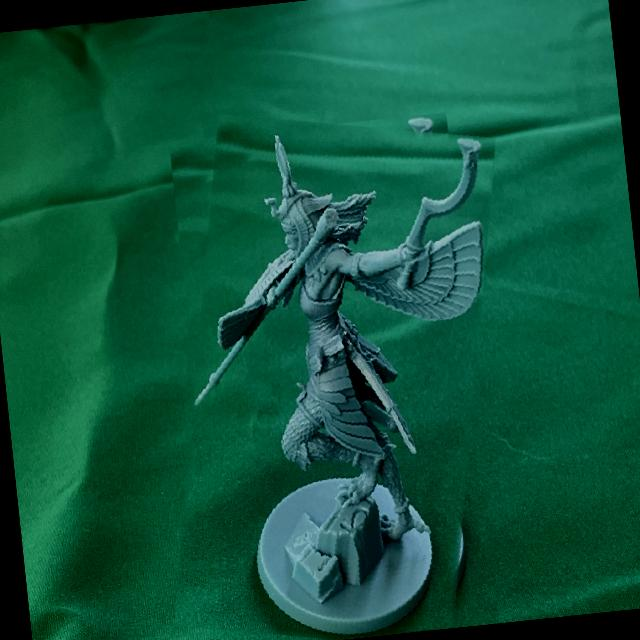isis: (144, 98, 521, 640)
